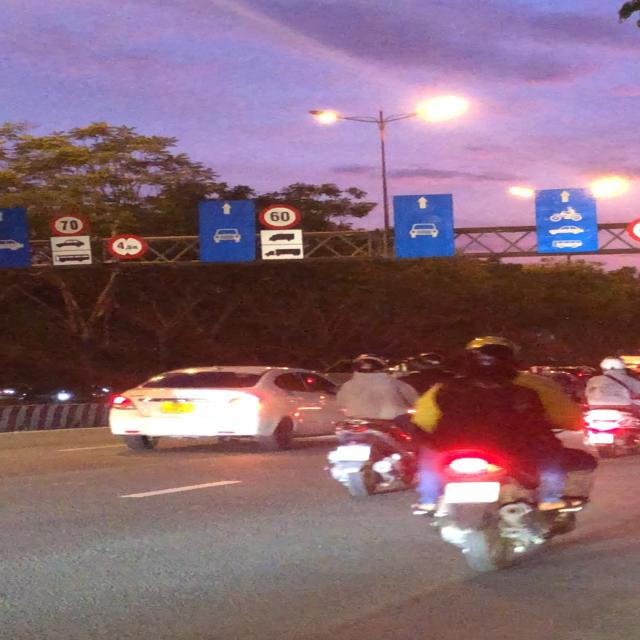Bien bao han che chieu cao: (104, 232, 153, 262)
Bien bao toc do toi da cho phep: (256, 202, 307, 232), (43, 212, 88, 236)
